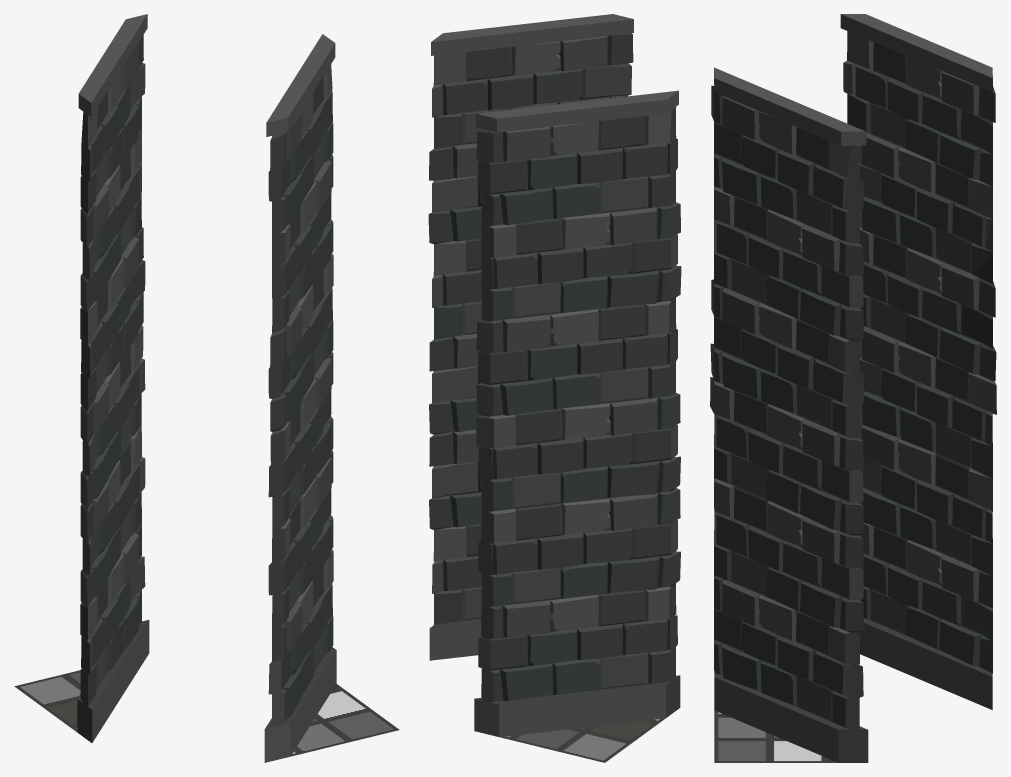
The model's file is Dungeon_Tilemap_06.fbx.
3 views of the same model, side by side, from view 1: azimuth 30°, elevation 25°; view 2: azimuth 150°, elevation 25°; view 3: azimuth 270°, elevation 25° (orthographic). The views are drawn at different scales.
Visible parts, largest first — view 1: Dungeon_Tilemap_06; view 2: Dungeon_Tilemap_06; view 3: Dungeon_Tilemap_06.
Part boxes in pixels (x1,y1,x2,y2): Dungeon_Tilemap_06: (14,14,399,762); Dungeon_Tilemap_06: (428,14,681,762); Dungeon_Tilemap_06: (710,14,996,762).
Bounding box in the file's own units: 103 × 250 × 103.
2 materials, 2 textured.
